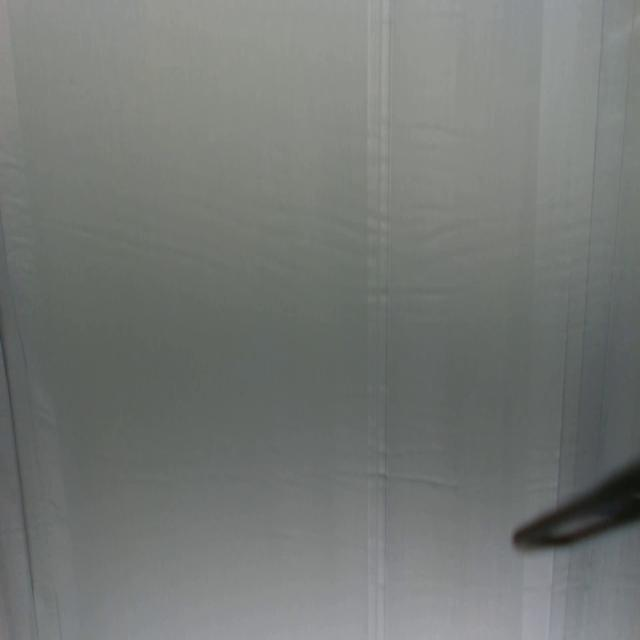crease: (367, 0, 395, 639), (0, 325, 40, 639), (578, 0, 604, 442), (606, 0, 634, 352), (0, 219, 31, 369), (553, 294, 571, 500)
